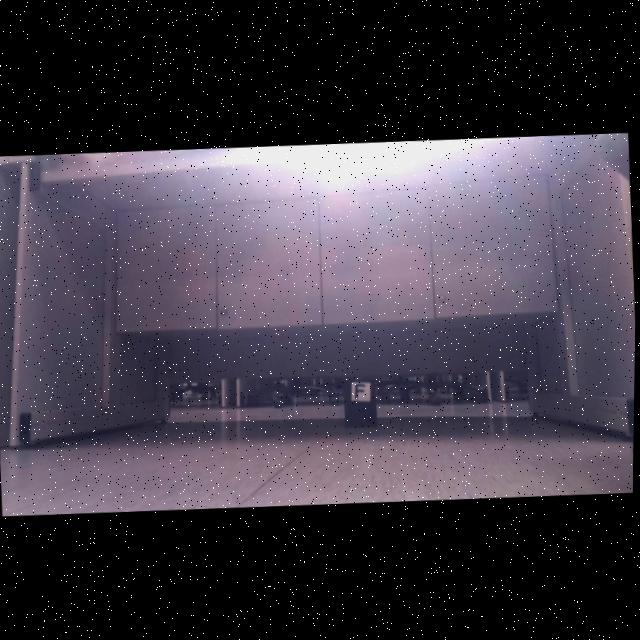F: (357, 383, 368, 398)
